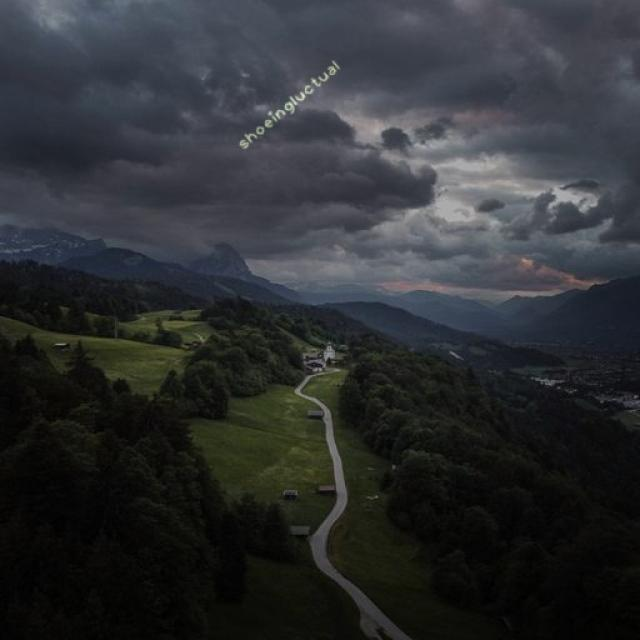watermark: (238, 54, 341, 152)
